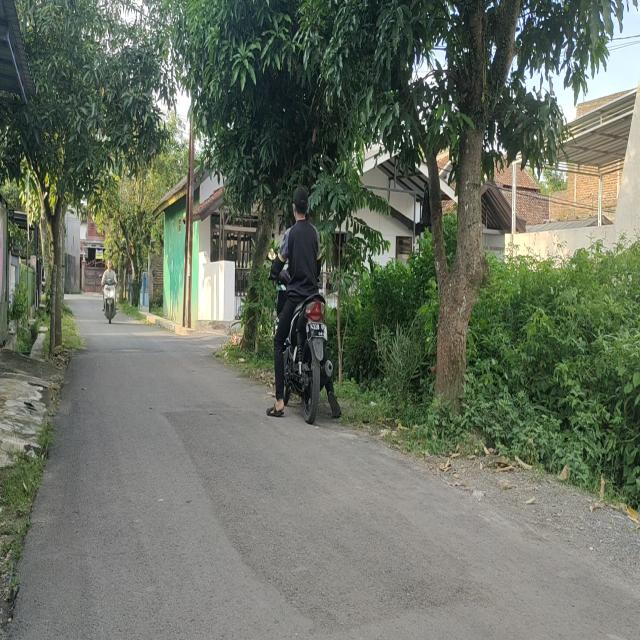no-helmet: (291, 183, 310, 224), (107, 257, 113, 272)
